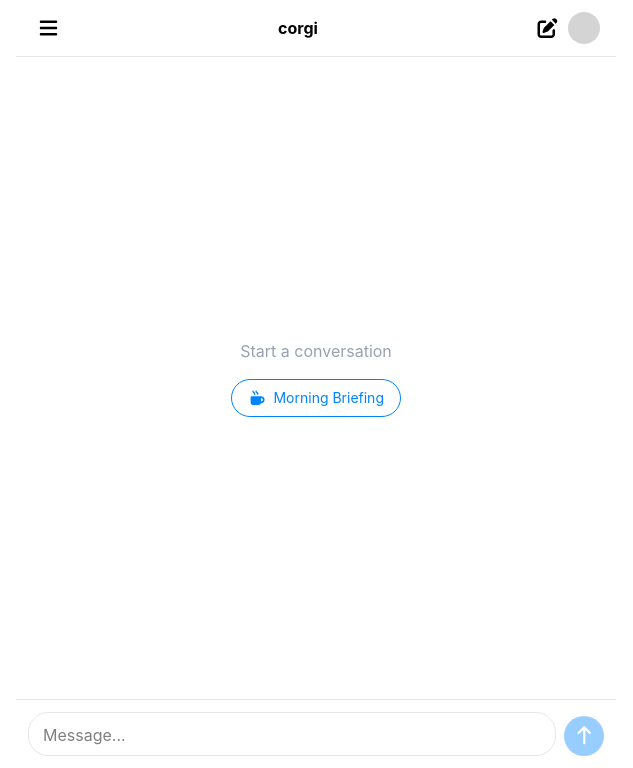
Test: ChatPage error toasts › shows "Failed to send message" when stream request throws
Type "hello" into the text box. click: (292, 734)
box: [28,712,556,756]
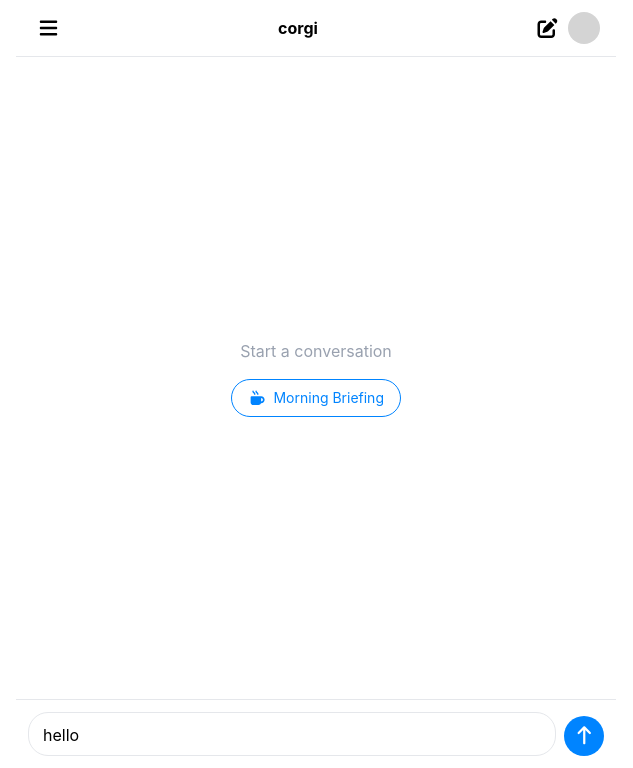
Click the button named "Send message". click: (584, 736)
box: [564,716,604,756]
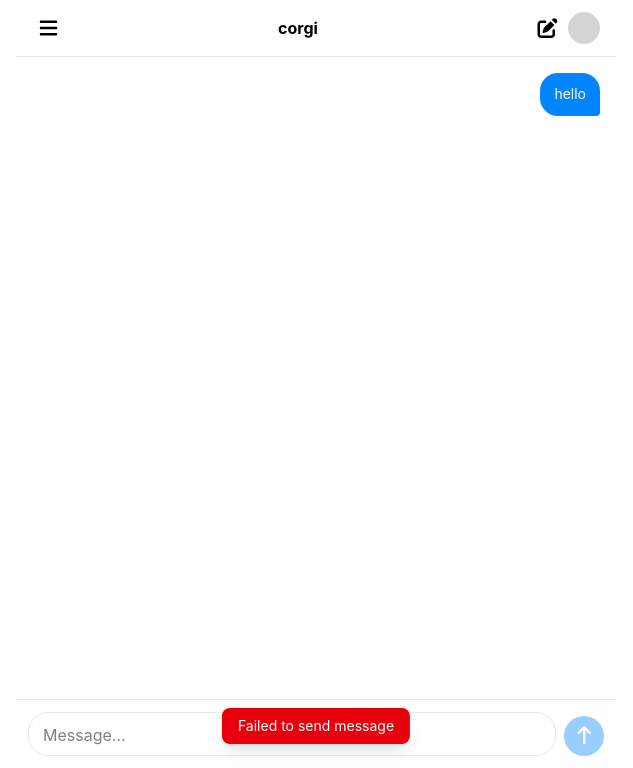
Check: the text "Failed to send message" is shown, box [222,708,410,744]
